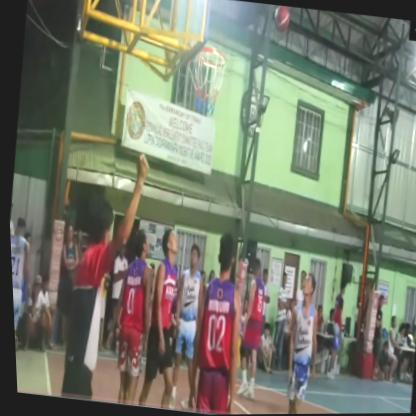basketball: (267, 5, 292, 37)
rim: (175, 32, 235, 136)
